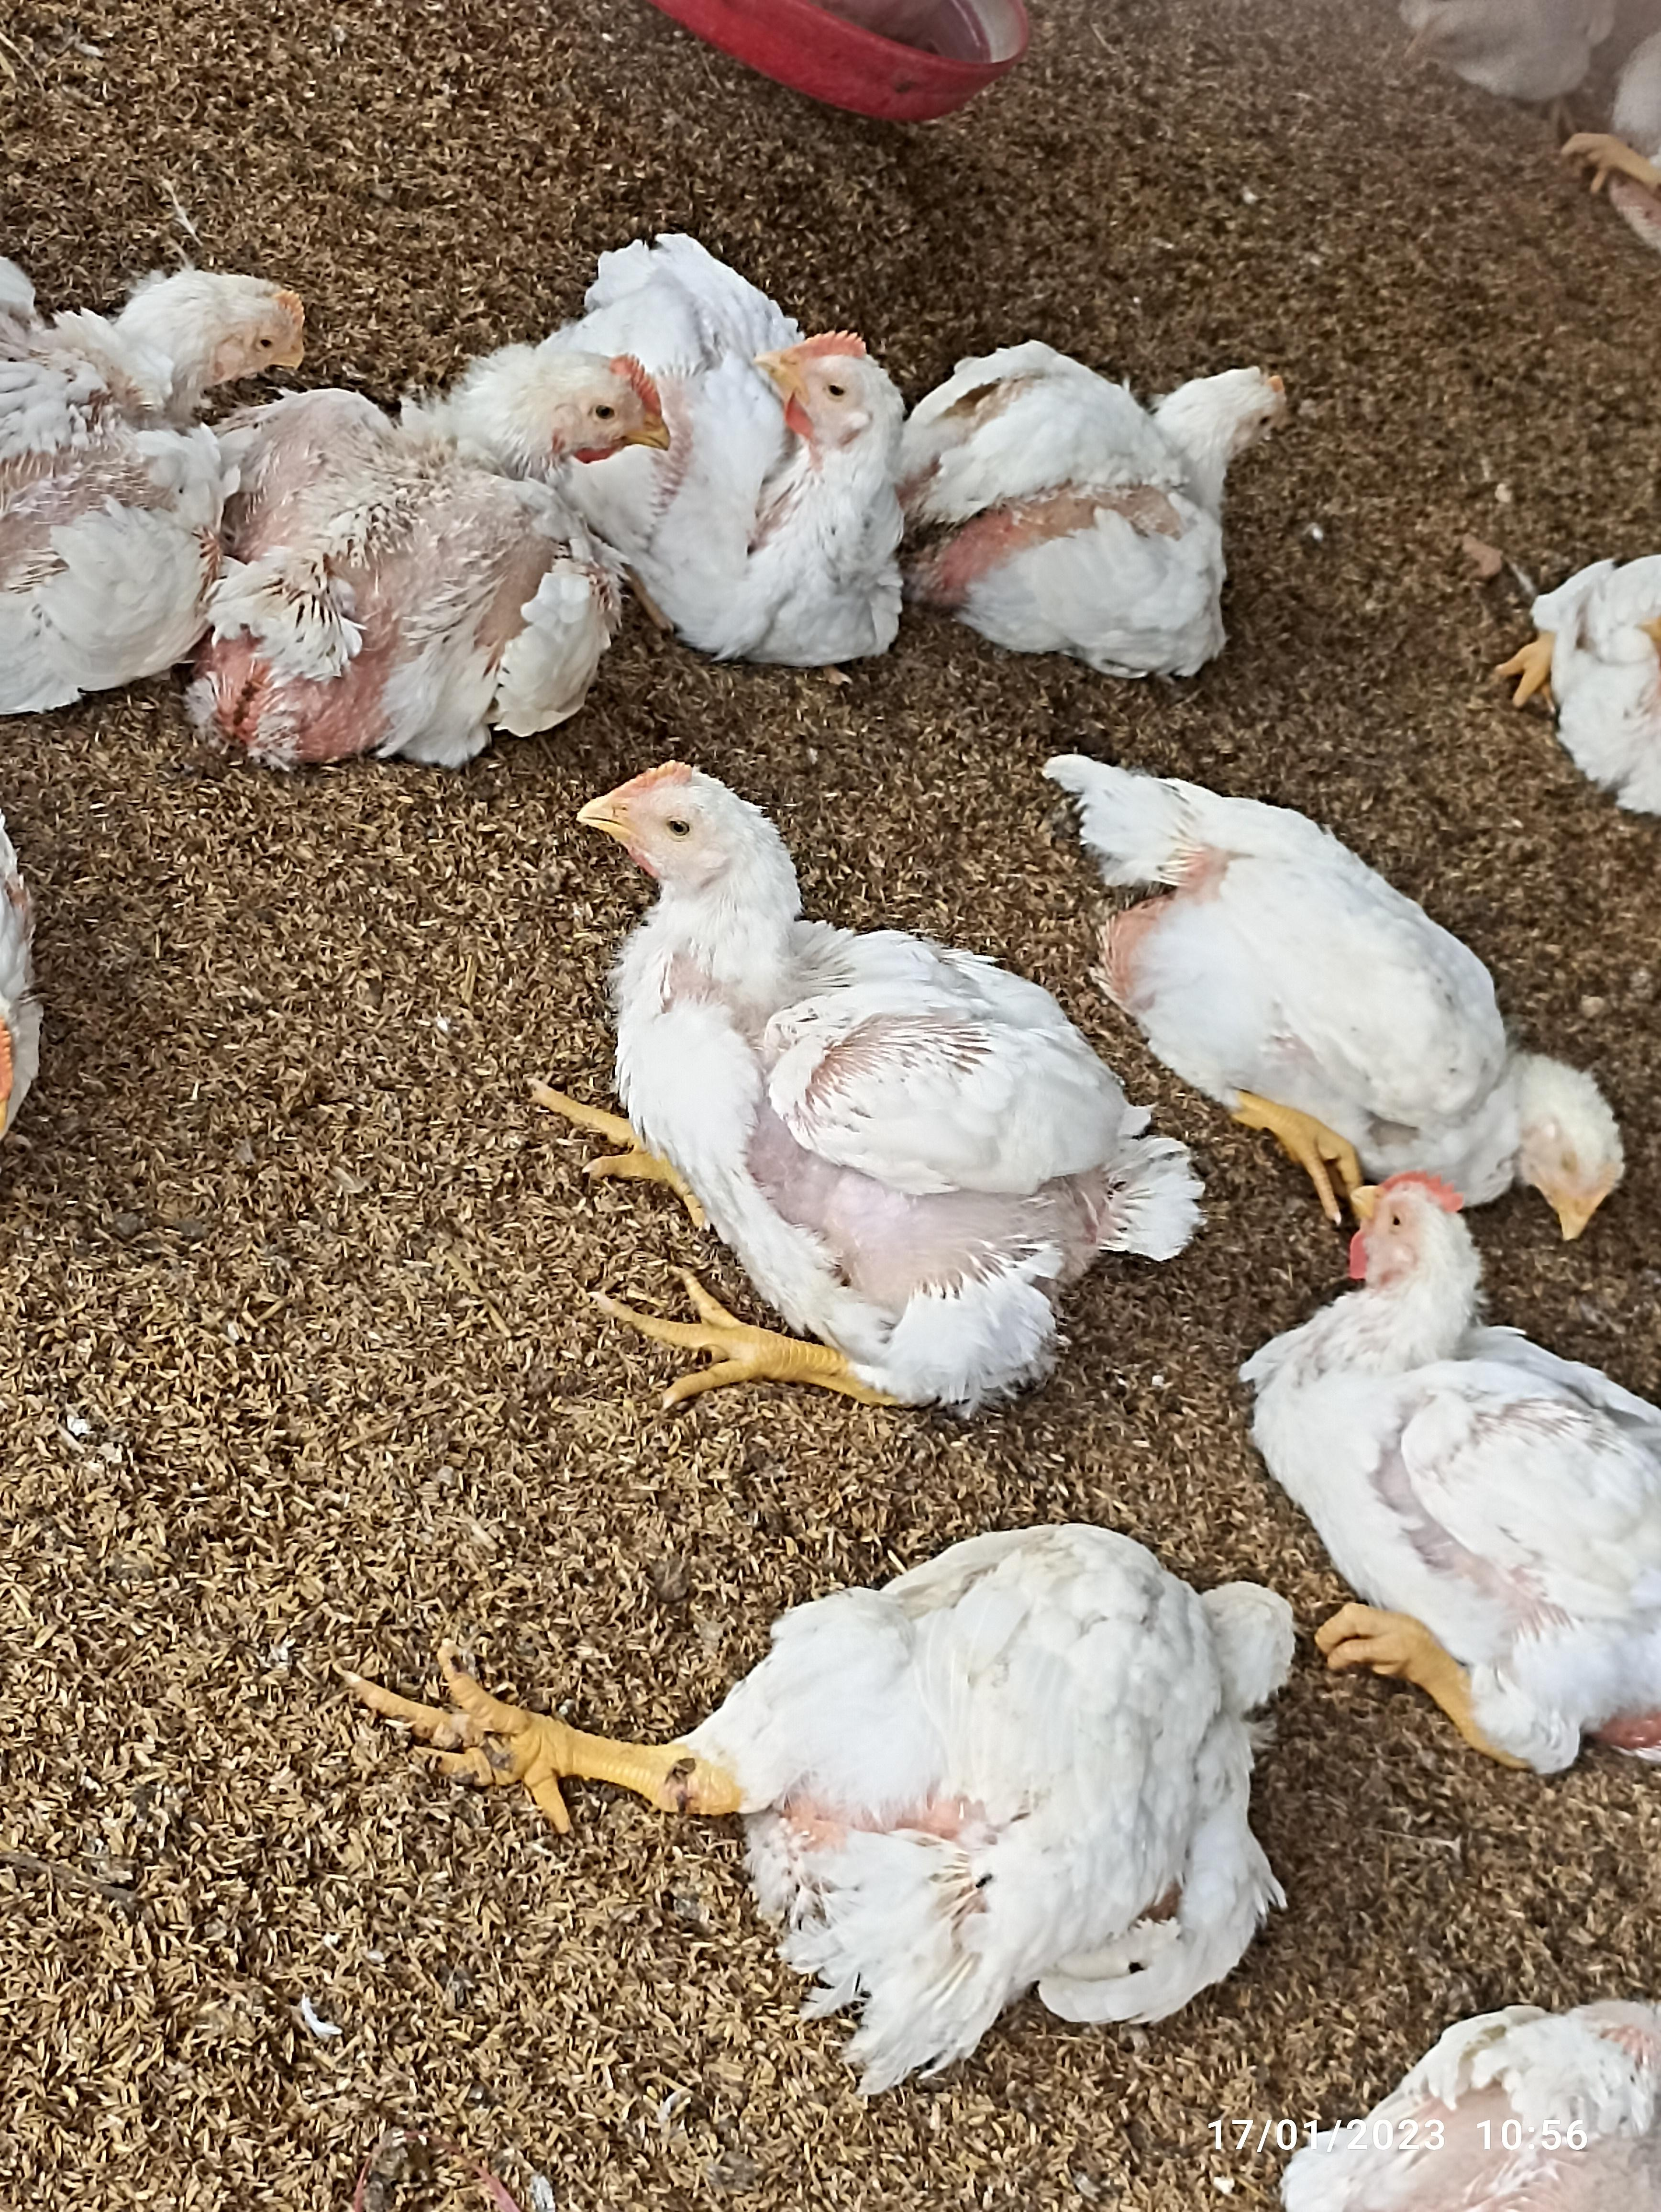Pollos: (576, 745, 1101, 1376), (1101, 748, 1624, 1218), (794, 1533, 1307, 1976), (1263, 1183, 1661, 1743), (174, 330, 660, 745), (0, 253, 288, 755), (612, 232, 902, 668), (937, 347, 1300, 644)
